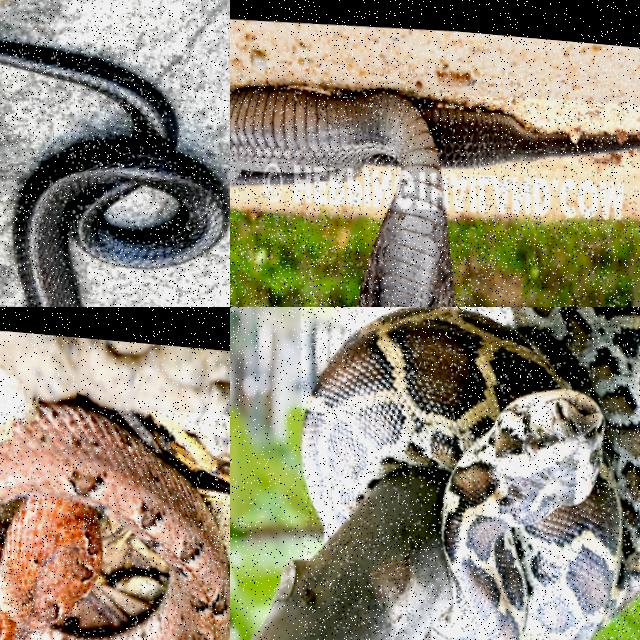Calloselasma rhodostoma: (0, 405, 229, 639)
Naja siamensis: (230, 87, 639, 306), (0, 41, 229, 306)
Python bivittatus: (303, 307, 639, 639)
snake: (303, 307, 639, 639), (230, 87, 639, 306), (0, 41, 229, 306), (0, 405, 229, 639)
